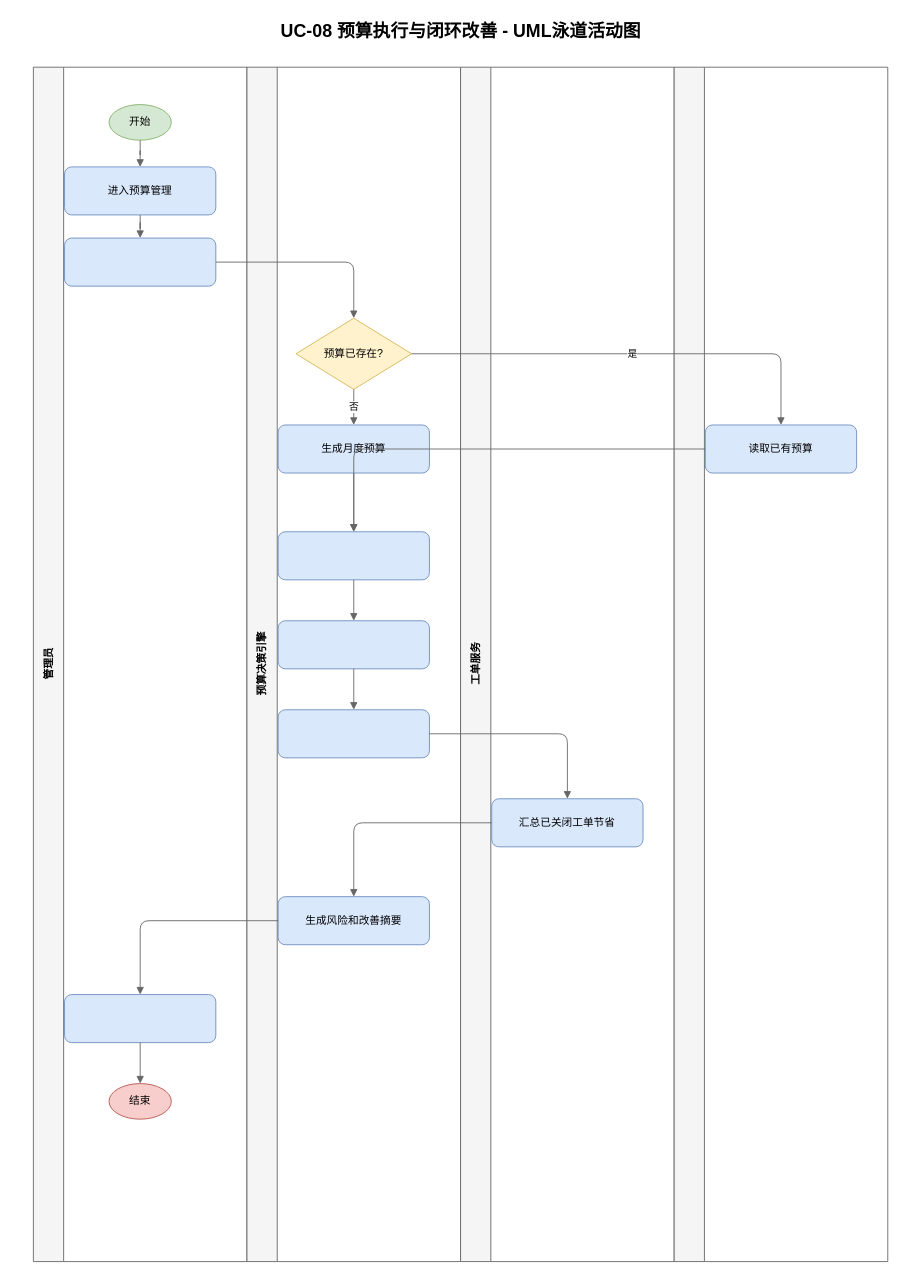
This 920x1277 diagram has some shape labels left out. The shapes that lost their labels are listed below. From the top down, each one's box as (x1, y1, x2, y2) in pixels, then its label:
(64, 237, 216, 286): 选择建筑和月份
(277, 531, 429, 580): 计算实际电耗执行率
(277, 620, 429, 669): 预测月末执行率
(673, 66, 888, 1262): 持久化存储
(277, 709, 429, 758): 计算年度KPI
(64, 994, 216, 1043): 展示预算结果
